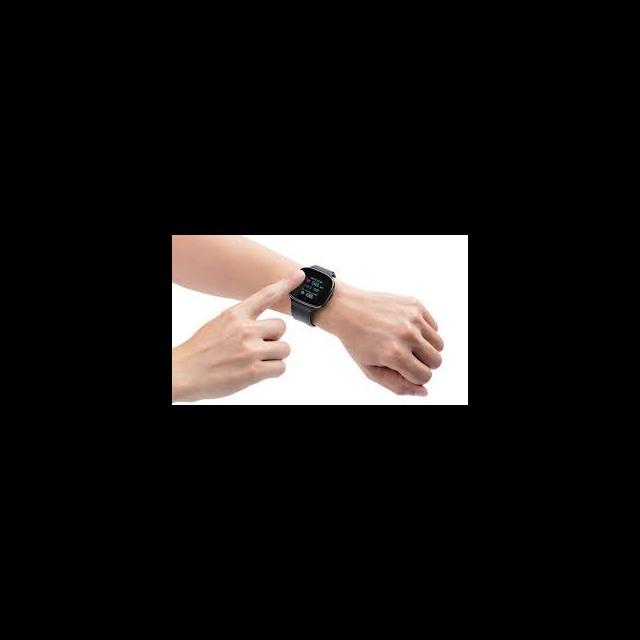watch: (278, 247, 338, 328)
